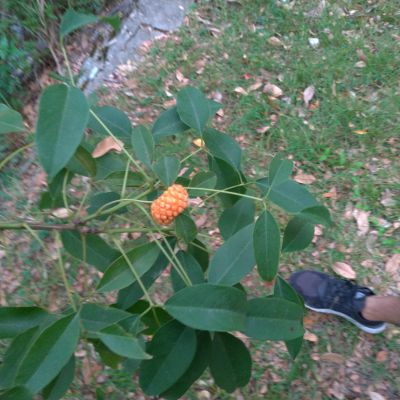eggs: (147, 181, 194, 225)
